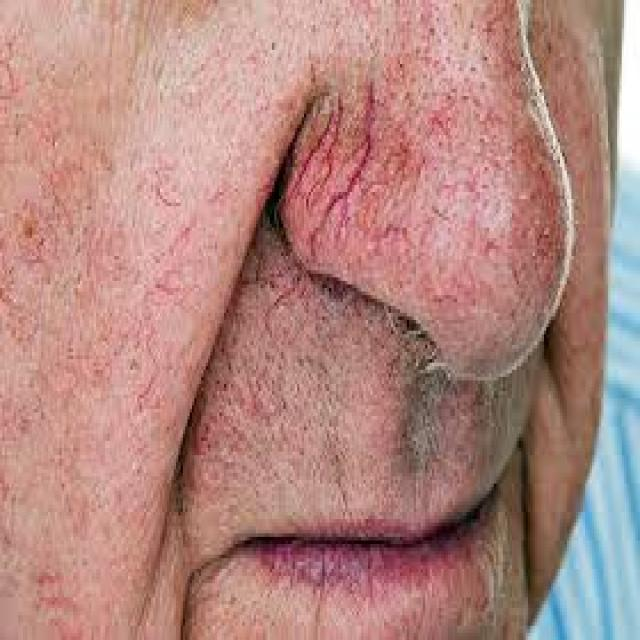burn: (1, 4, 610, 636)
